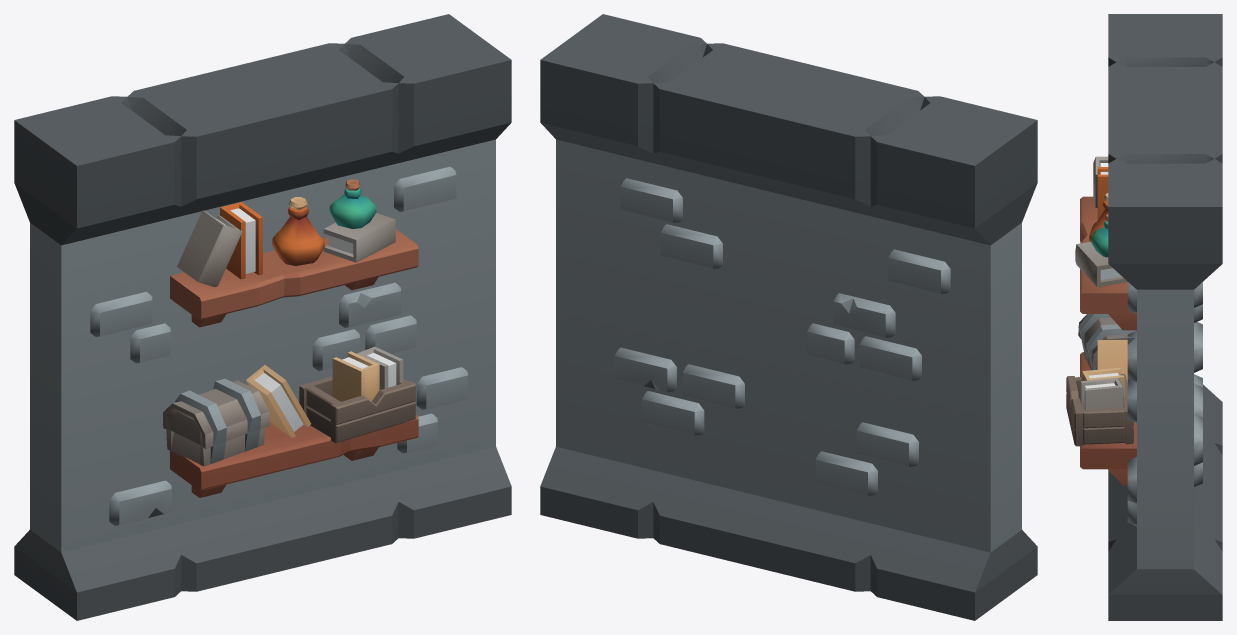
Rendered from wall_shelves.glb.
3 views of the same model, side by side, from view 1: azimuth 30°, elevation 25°; view 2: azimuth 150°, elevation 25°; view 3: azimuth 270°, elevation 25° (orthographic). The views are drawn at different scales.
Parts seen in each view (by area): view 1: wall_shelves; view 2: wall_shelves; view 3: wall_shelves.
Part boxes in pixels (x1,y1,x2,y2): wall_shelves: (14, 14, 511, 620); wall_shelves: (540, 14, 1037, 620); wall_shelves: (1066, 14, 1222, 620).
Size of the model in its own units: 4 by 4 by 1.37.
1 material, 1 textured.
